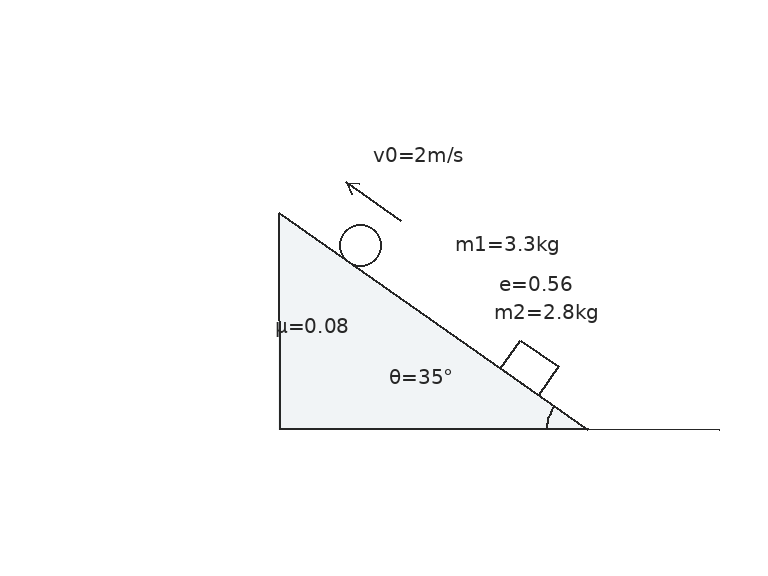ball: (337, 222, 383, 268)
block: (498, 338, 560, 397)
ramp: (277, 211, 589, 431)
